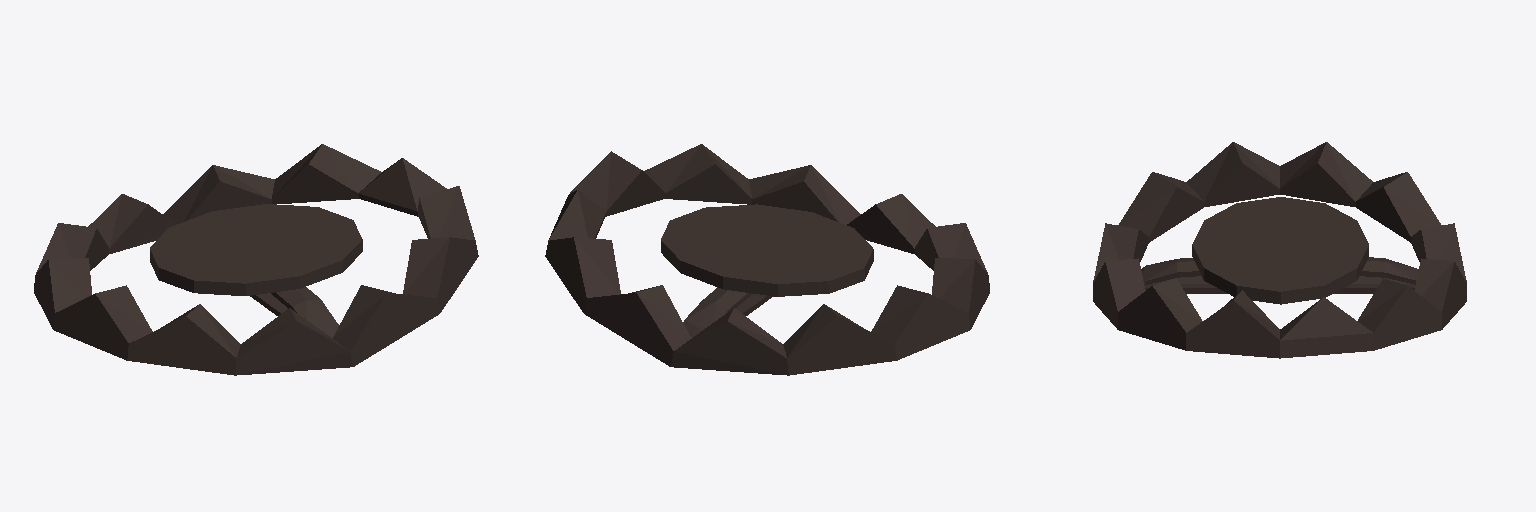
File: BearTrap.obj
3 views of the same model, side by side, from view 1: azimuth 30°, elevation 25°; view 2: azimuth 150°, elevation 25°; view 3: azimuth 270°, elevation 25° (orthographic).
Visible parts, largest first — view 1: BearTrap_Open; view 2: BearTrap_Open; view 3: BearTrap_Open.
Part boxes in pixels (x1,y1,x2,y2): BearTrap_Open: (34,144,478,375); BearTrap_Open: (545,144,989,375); BearTrap_Open: (1093,142,1466,358).
Size of the model in its own units: 2.47 by 0.5102 by 1.98.